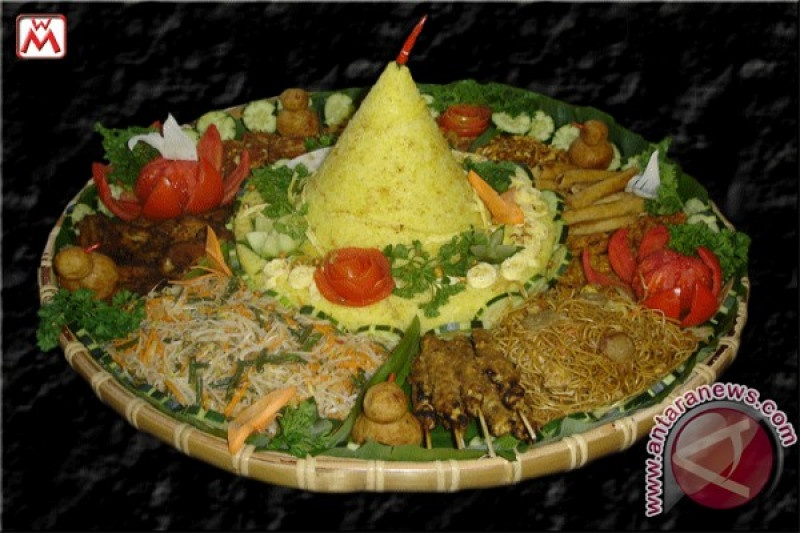tumpeng: (288, 43, 466, 257)
